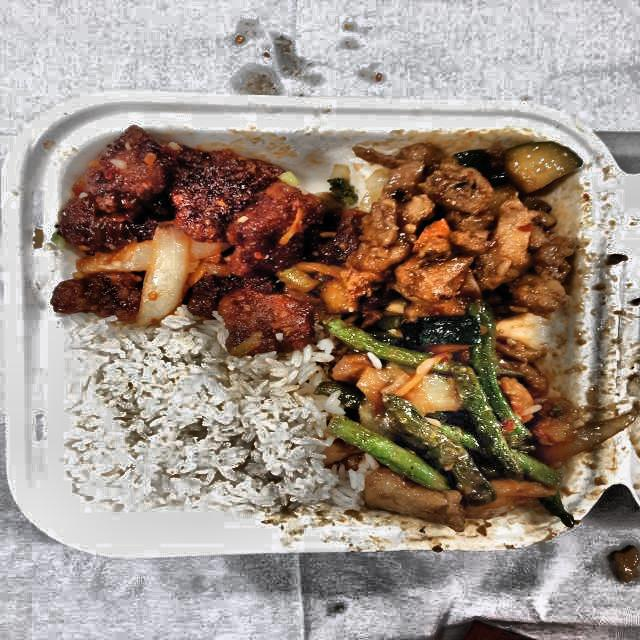Food: (50, 127, 335, 334), (336, 128, 592, 329), (72, 333, 331, 516), (338, 330, 552, 524)
